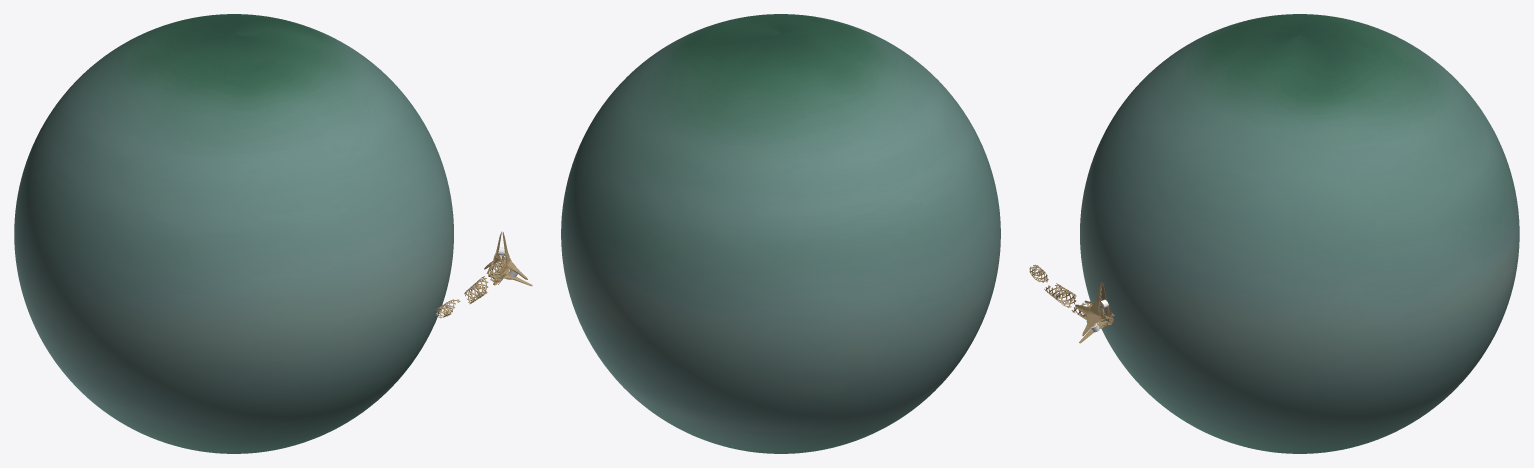
File: GiantsDeep_green.glb
3 views of the same model, side by side, from view 1: azimuth 30°, elevation 25°; view 2: azimuth 150°, elevation 25°; view 3: azimuth 270°, elevation 25° (orthographic).
Parts seen in each view (by area): view 1: CloudsTopLayer_GD__1_, OPC_Base_Proxy; view 2: CloudsTopLayer_GD__1_; view 3: CloudsTopLayer_GD__1_, OPC_Base_Proxy.
Boxes of the visible parts, x1,y1,x2,y2 form: CloudsTopLayer_GD__1_: (14, 14, 453, 453); OPC_Base_Proxy: (484, 231, 532, 286); CloudsTopLayer_GD__1_: (561, 14, 1000, 453); CloudsTopLayer_GD__1_: (1080, 14, 1519, 453); OPC_Base_Proxy: (1071, 282, 1114, 343).
Size of the model in its own units: 1763 by 1763 by 1965.
9 materials, 6 textured.
